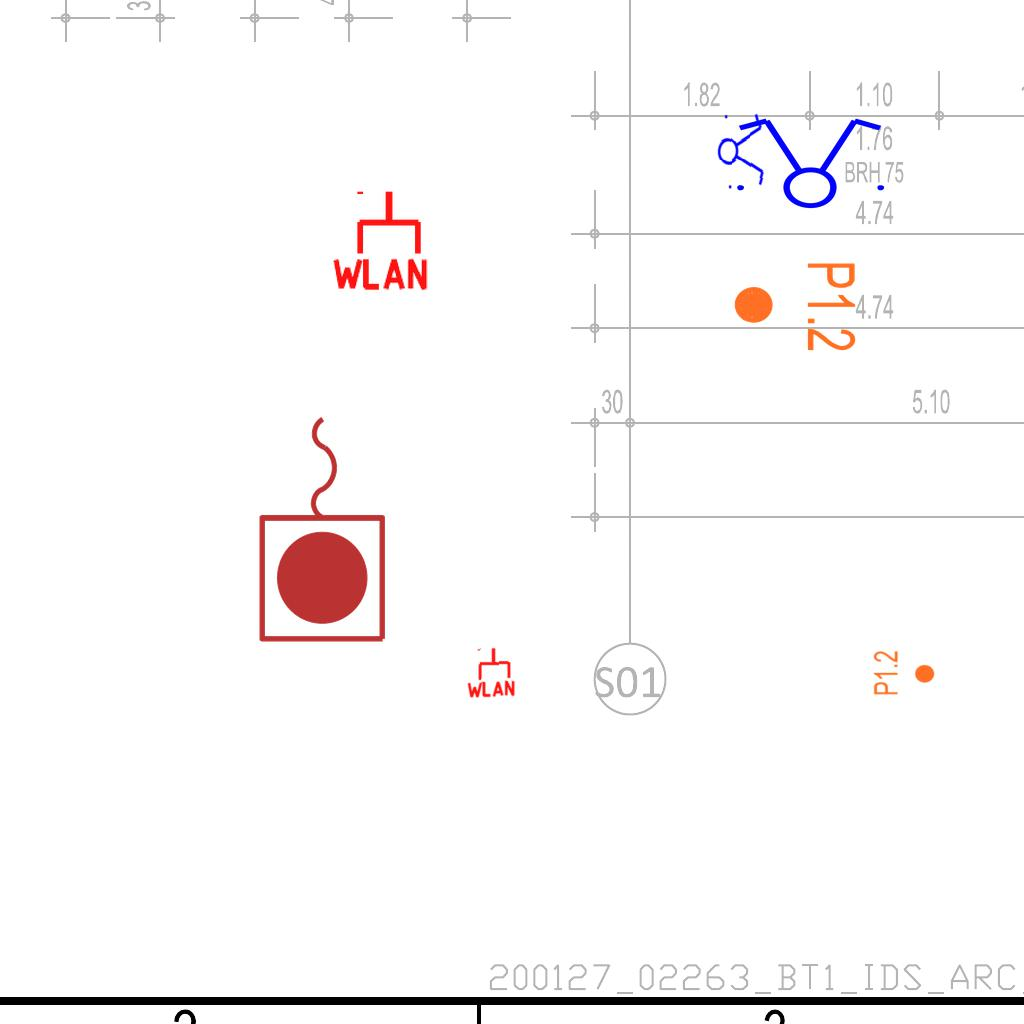Downlight_LED_Einbauleuchten_Flur: (731, 260, 859, 353), (872, 650, 936, 696)
Serienschalter: (725, 114, 893, 210), (714, 106, 768, 194)
WLAN: (328, 187, 432, 292), (462, 644, 518, 700)
Zugtaster: (252, 406, 396, 650)
